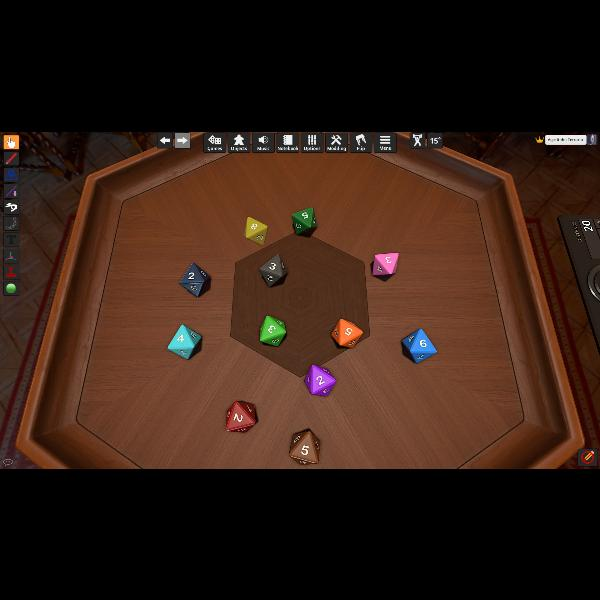d8: (168, 324, 202, 358), (402, 327, 434, 362), (180, 262, 210, 296), (289, 430, 319, 464), (305, 364, 335, 396), (259, 254, 287, 288), (226, 399, 256, 430), (332, 318, 362, 346), (260, 316, 286, 346), (246, 216, 268, 245), (292, 206, 314, 234), (373, 251, 397, 275)
